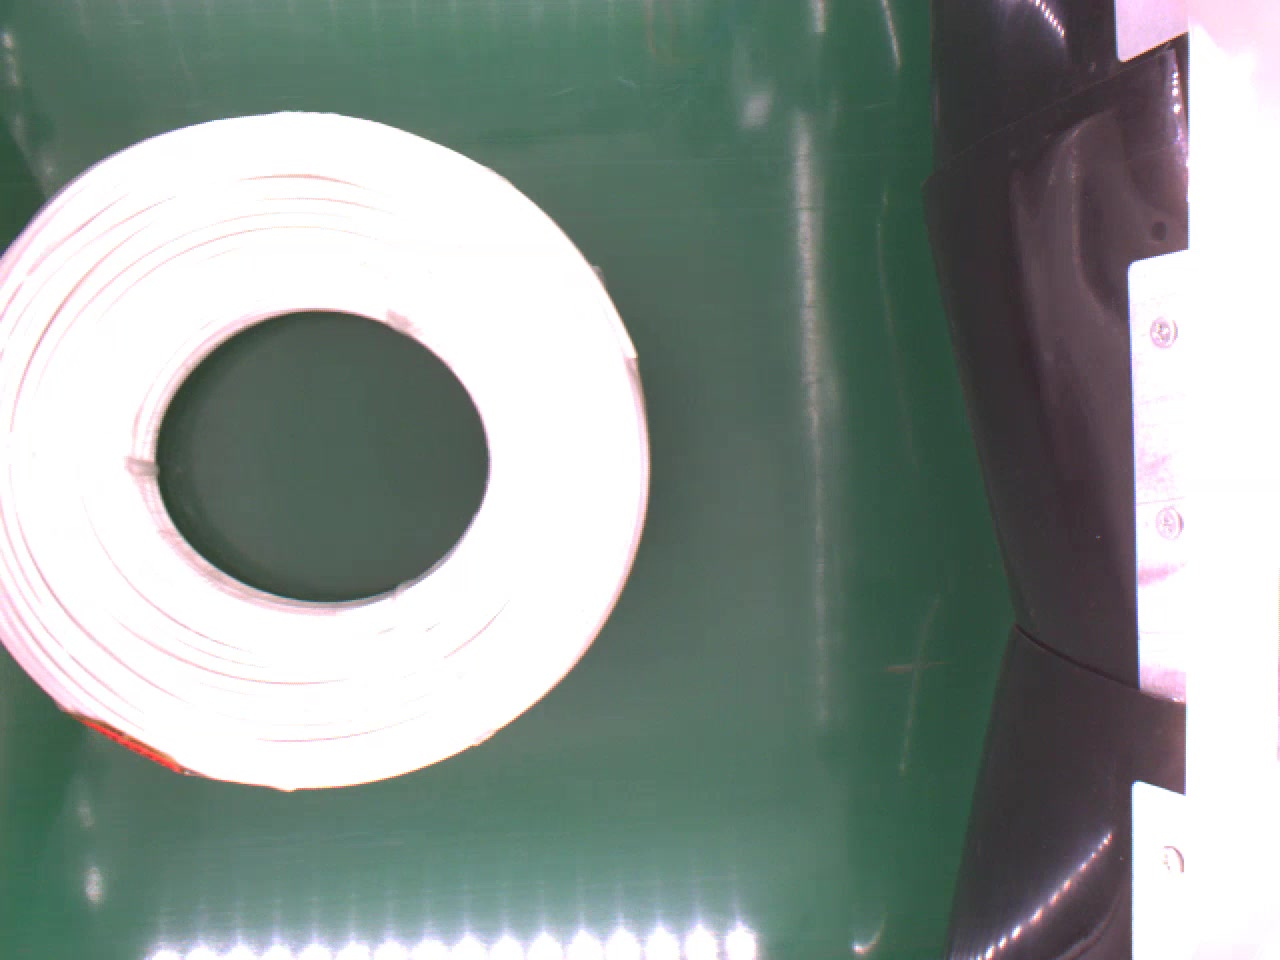white: (0, 98, 658, 792)
